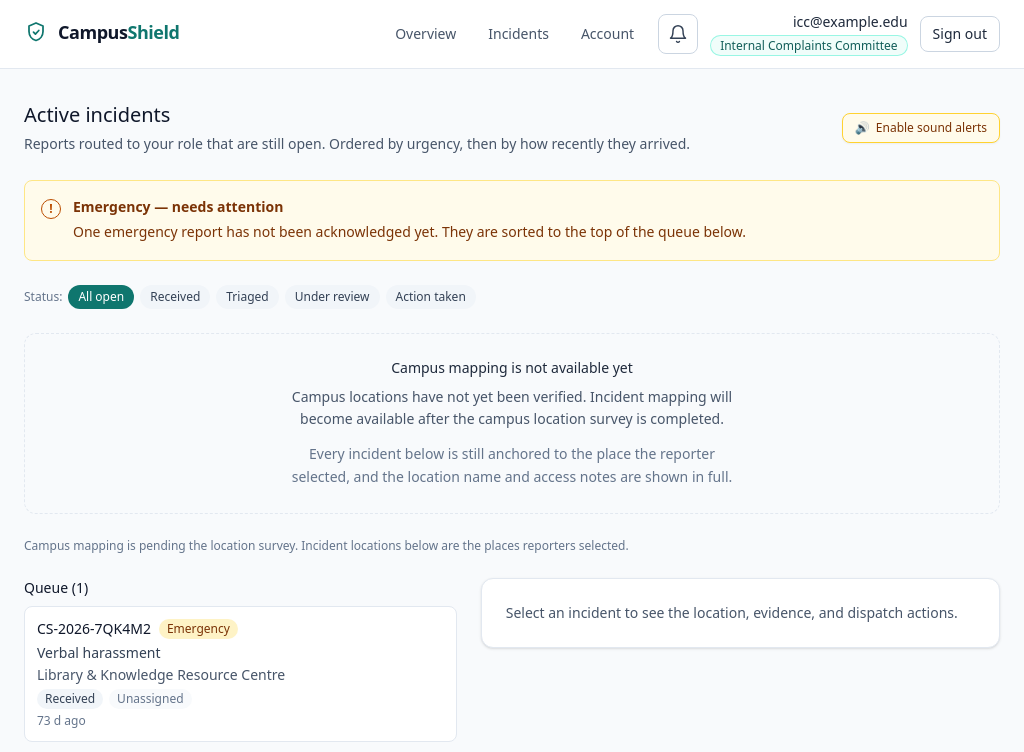
IncidentsPage — dispatch › surfaces a rejected transition instead of silently doing nothing
Click the button "CS-2026-7QK4M2": (240, 674) [24,606,457,742]
(page scrolled)
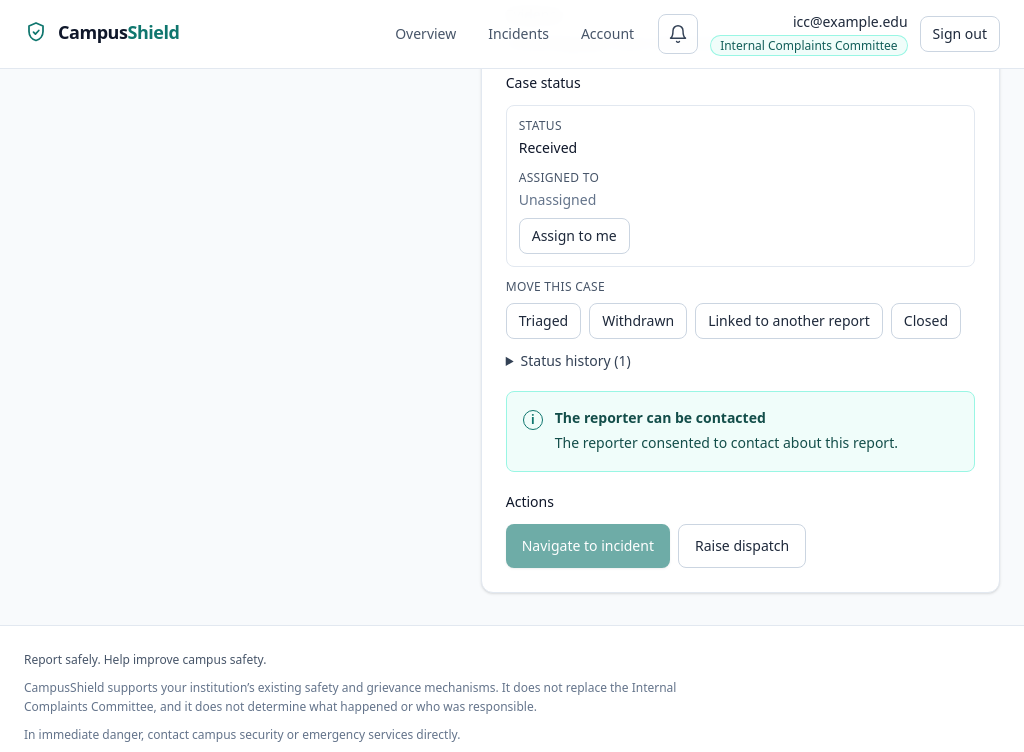
Click the button "Raise dispatch": (742, 546) [678,524,806,568]
(page scrolled)
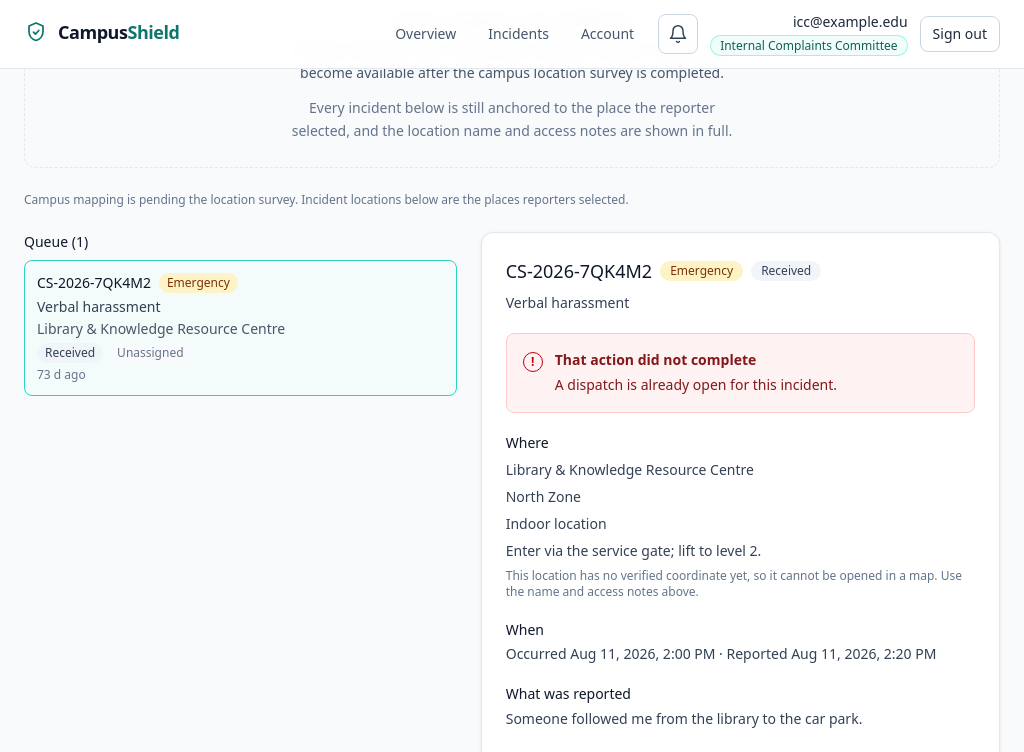
Check: the text "A dispatch is already open for this incident." is shown, box [555,374,837,394]
